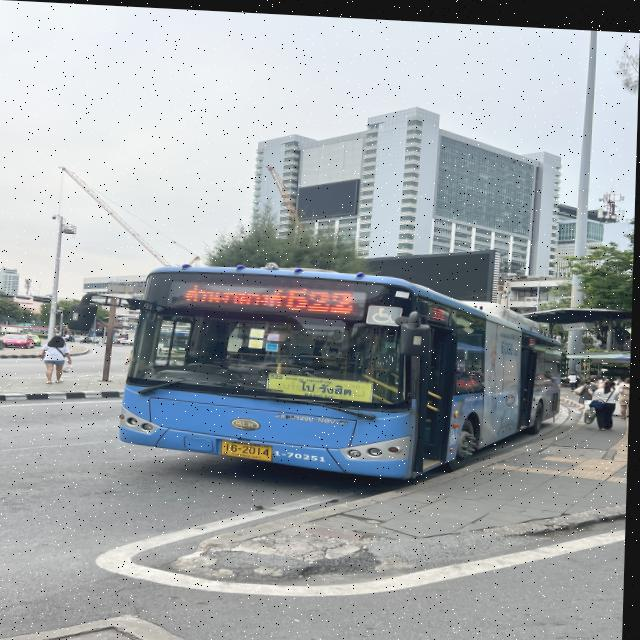BMTA-bus: (120, 259, 563, 484)
Bus-Line-Number: (286, 281, 367, 311)
Destination-Sign-Normal-Expressway: (268, 368, 377, 400)
